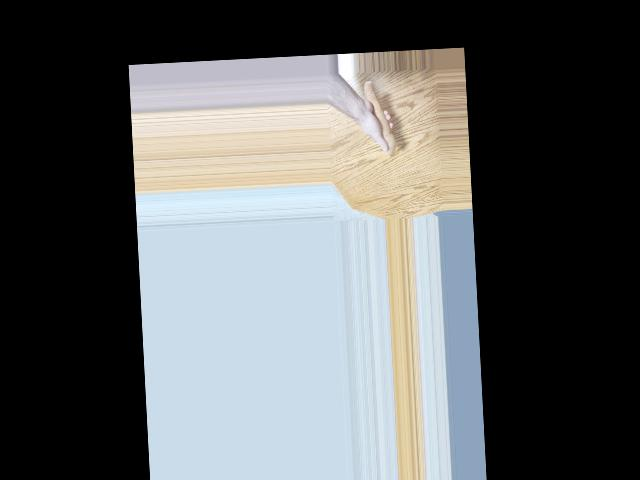sweet_potato: (360, 78, 398, 155)
